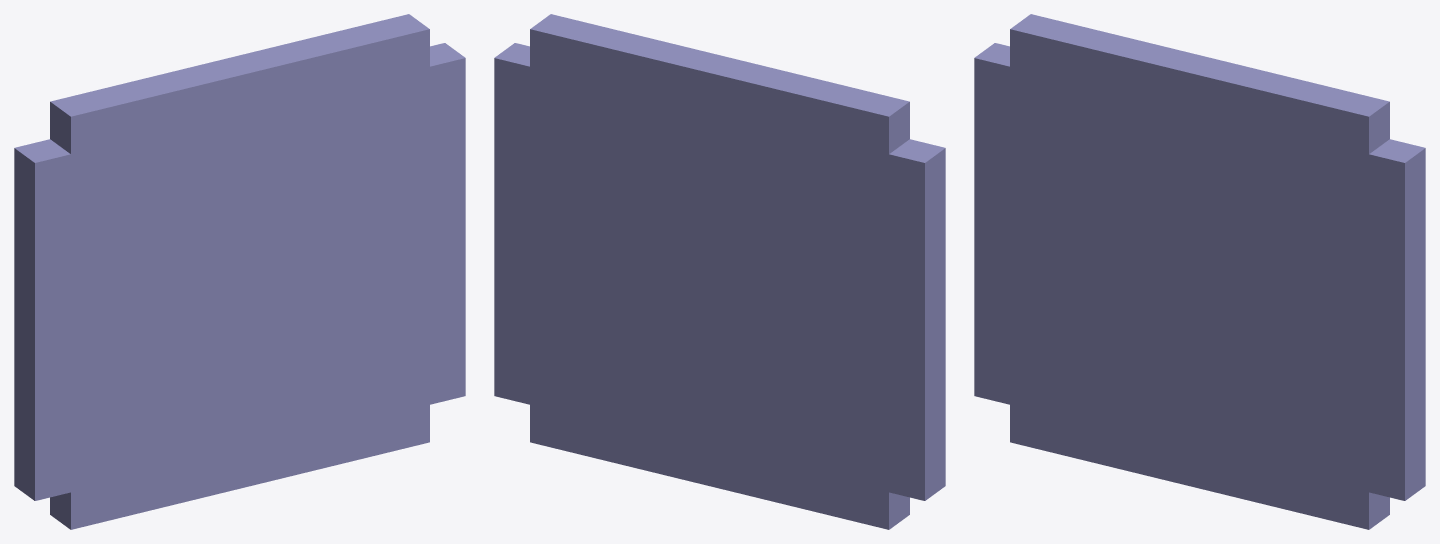
The picture shows the model from 3 angles, left to right: view 1: azimuth 30°, elevation 25°; view 2: azimuth 150°, elevation 25°; view 3: azimuth 330°, elevation 25°; orthographic projection.
Parts seen in each view (by area): view 1: 111.1; view 2: 111.1; view 3: 111.1.
Part boxes in pixels (<box>): 111.1: <box>14,14,465,529</box>; 111.1: <box>494,14,945,529</box>; 111.1: <box>974,14,1425,529</box>.
Bounding box in the file's own units: 120 × 110 × 10.
1 material, 1 textured.
